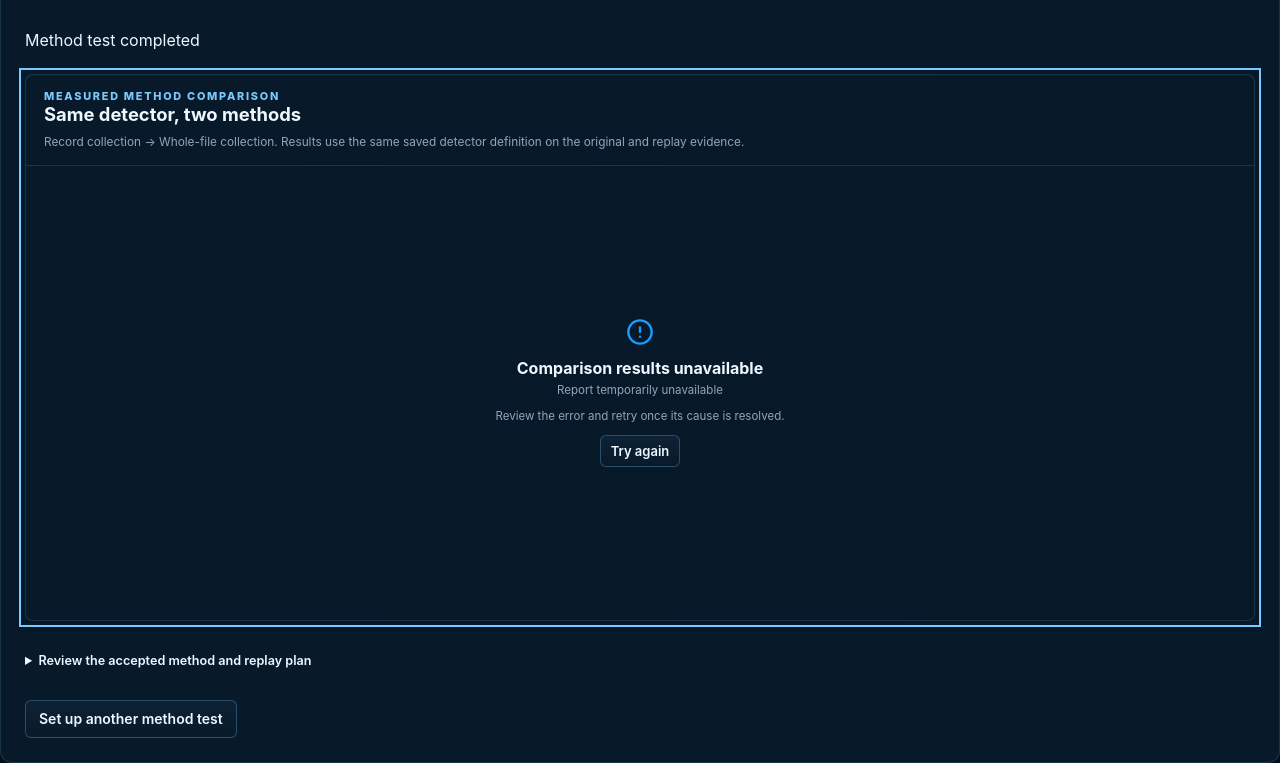
Test case: focuses the retained results and keeps the accepted proposal in a closed history disclosure
This screenshot has width=1280, height=763.
(page scrolled)
Expected: the text "Comparison results unavailable" is shown, [517,358,763,378]
Click the heading "Review the accepted method and replay plan" at (175, 660), box [38,653,312,668]
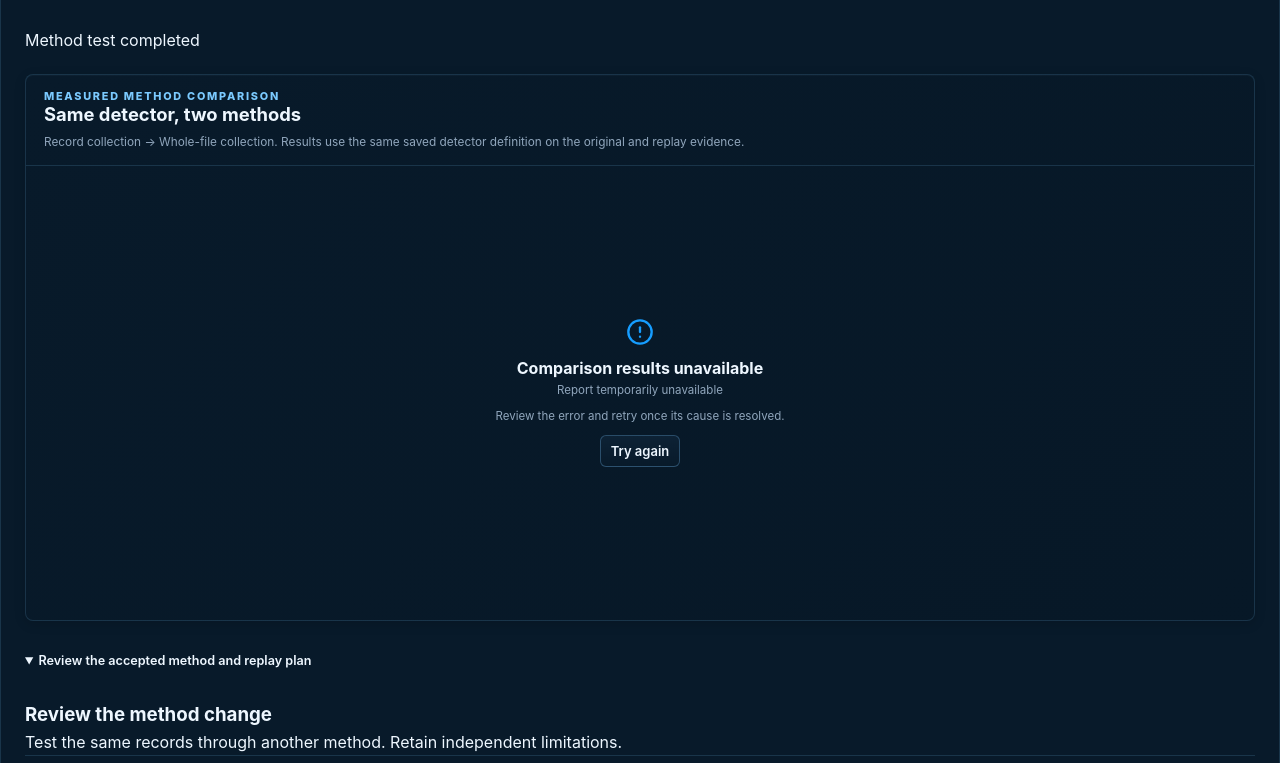
Expected: the heading "Review the method change" is shown, [25,703,272,726]
